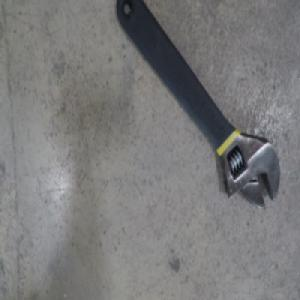AdjustableWrench: (118, 0, 280, 210)
